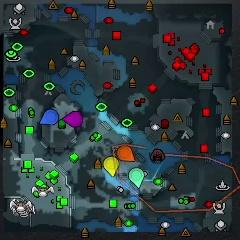p1: (40, 109, 60, 125)
p2: (129, 168, 144, 188)
p3: (63, 110, 83, 127)
p4: (104, 156, 120, 177)
p5: (118, 145, 135, 161)
